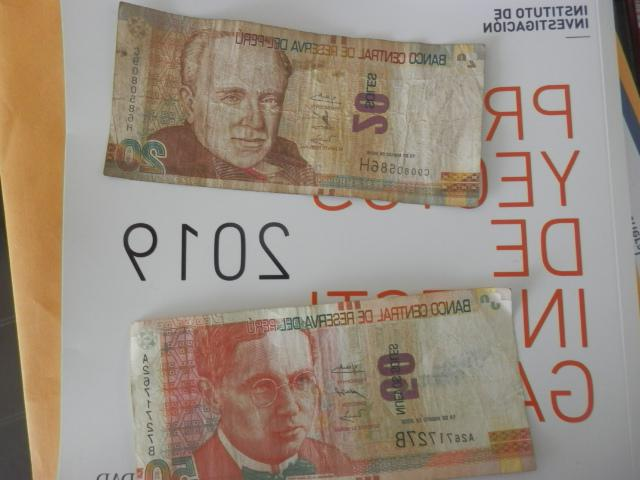B20: (105, 2, 487, 208)
B50: (130, 289, 537, 480)
